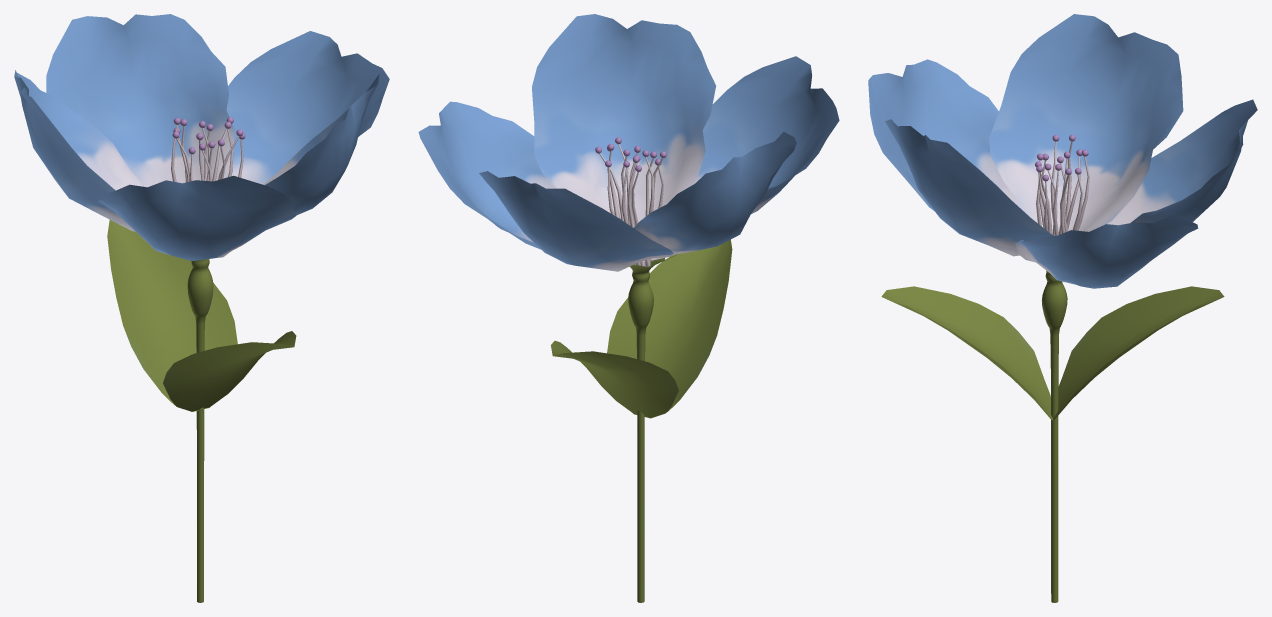
File: flower.fbx
3 views of the same model, side by side, from view 1: azimuth 30°, elevation 25°; view 2: azimuth 150°, elevation 25°; view 3: azimuth 270°, elevation 25° (orthographic). The views are drawn at different scales.
Parts seen in each view (by area): view 1: flower; view 2: flower; view 3: flower.
Boxes of the visible parts, left/top/right/bottom form: flower: left=14, top=14, right=389, bottom=602; flower: left=418, top=14, right=839, bottom=602; flower: left=868, top=14, right=1257, bottom=602.
Bounding box in the file's own units: 333 × 490 × 335.
Materials: 1 (1 with a texture image).
